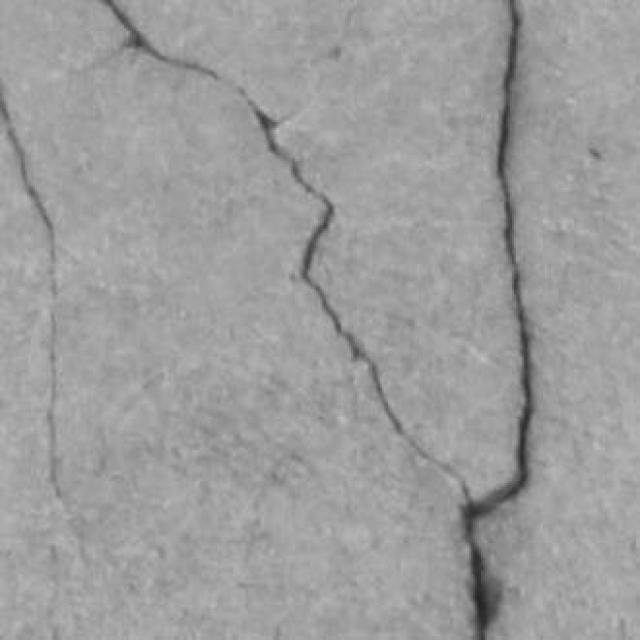crack: (97, 0, 533, 639), (99, 0, 467, 496), (464, 0, 533, 639), (474, 0, 533, 517), (0, 82, 63, 504)
